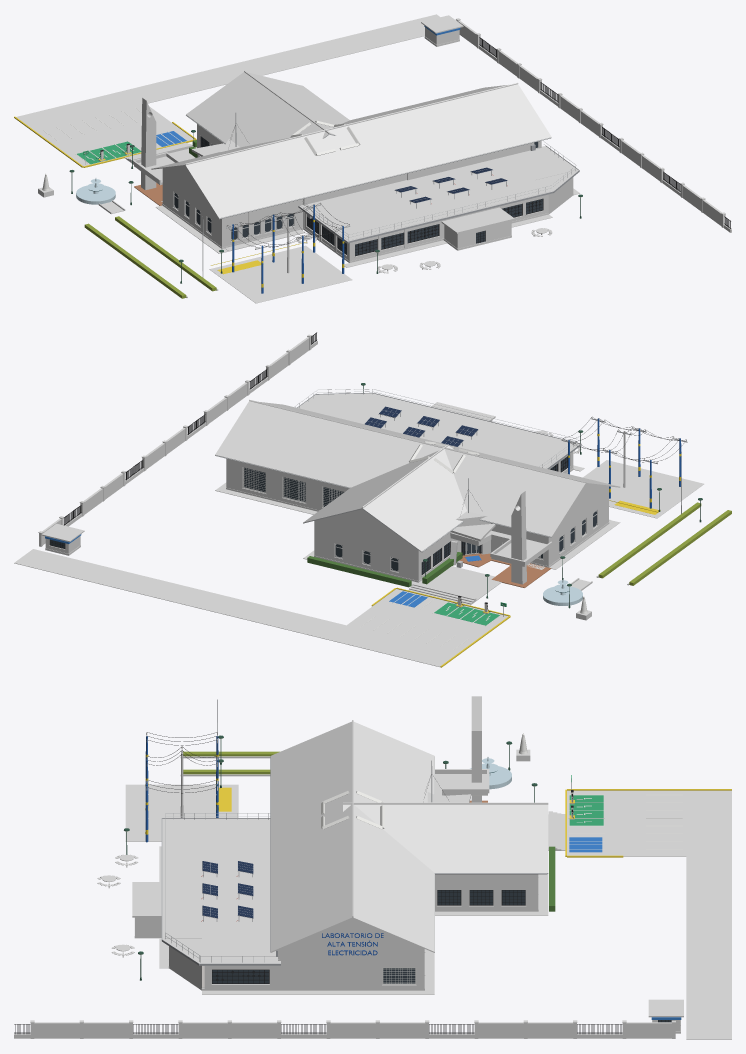
Rendered from bloque_h.glb.
The picture shows the model from 3 angles, top to bottom: view 1: azimuth 30°, elevation 25°; view 2: azimuth 150°, elevation 25°; view 3: azimuth 270°, elevation 25°; orthographic projection. The views are drawn at different scales.
Visible parts, largest first — view 1: BloqueH_techo, BloqueH, BloqueH_interior; view 2: BloqueH, BloqueH_techo; view 3: BloqueH, BloqueH_techo.
Boxes of the visible parts, x1,y1,x2,y2 form: BloqueH_techo: (151, 70, 579, 243); BloqueH: (14, 14, 731, 303); BloqueH_interior: (275, 173, 406, 233); BloqueH: (14, 332, 731, 667); BloqueH_techo: (215, 389, 620, 552); BloqueH: (14, 696, 731, 1039); BloqueH_techo: (132, 720, 548, 965).
Size of the model in its own units: 95.43 by 17.07 by 102.
